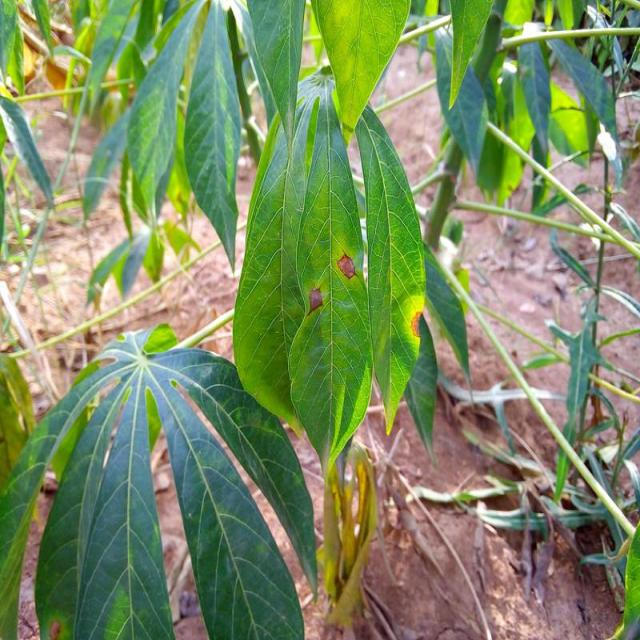cassava leaf: (1, 323, 317, 638), (231, 64, 426, 474)
